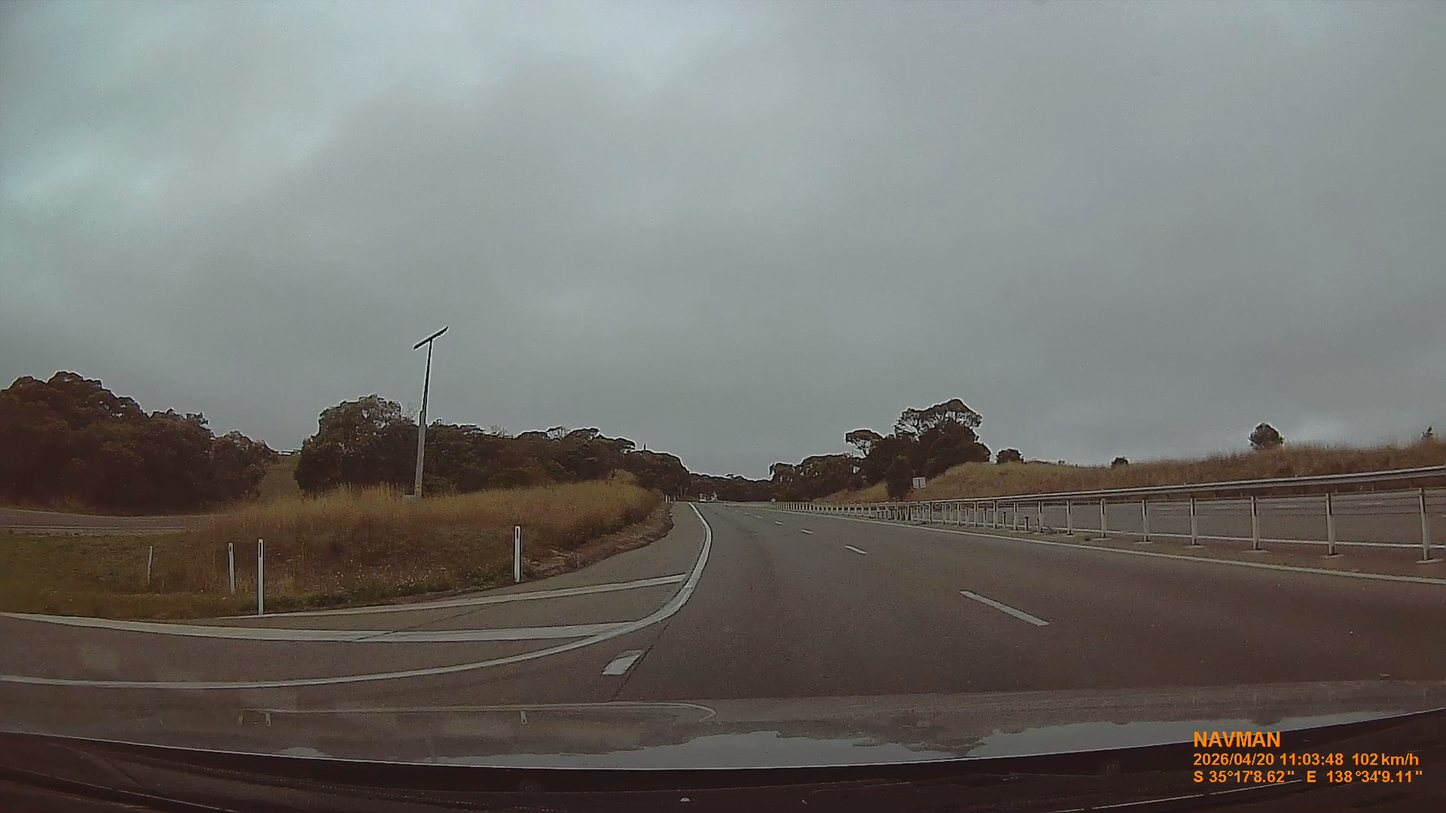road barriers: (926, 489, 1445, 560), (946, 464, 1445, 502)
